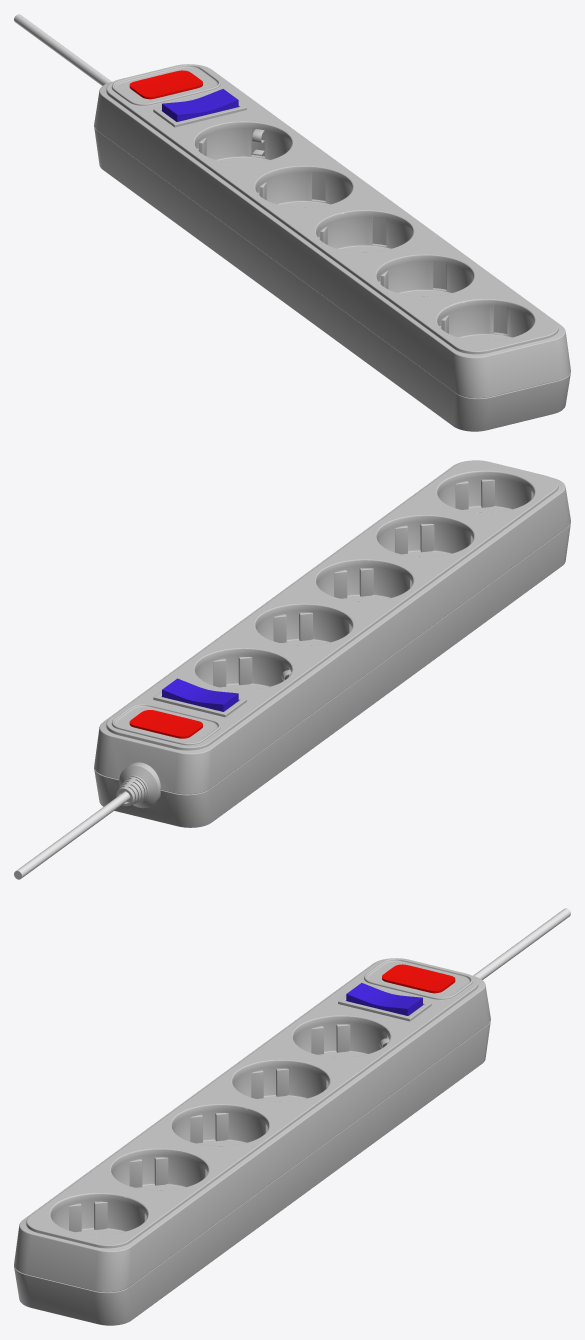
The model's file is PowerStrip_body.fbx.
The picture shows the model from 3 angles, top to bottom: view 1: azimuth 30°, elevation 25°; view 2: azimuth 150°, elevation 25°; view 3: azimuth 330°, elevation 25°; orthographic projection.
Parts seen in each view (by area): view 1: Circle.002, switch, PowerShow, Cylinder001; view 2: Circle.002, switch, Cylinder001, PowerShow; view 3: Circle.002, switch, PowerShow, Cylinder001.
Boxes of the visible parts, <box> form: Circle.002: <box>94,64,570,431</box>; switch: <box>162,89,238,121</box>; PowerShow: <box>129,70,202,99</box>; Cylinder001: <box>14,14,111,85</box>; Circle.002: <box>94,460,570,827</box>; switch: <box>162,678,238,711</box>; Cylinder001: <box>14,791,130,879</box>; PowerShow: <box>129,710,202,738</box>; Circle.002: <box>14,958,490,1325</box>; switch: <box>346,983,422,1015</box>; PowerShow: <box>382,964,455,993</box>; Cylinder001: <box>473,908,570,979</box>.
Bounding box in the file's own units: 11.74 × 8.69 × 92.12.
